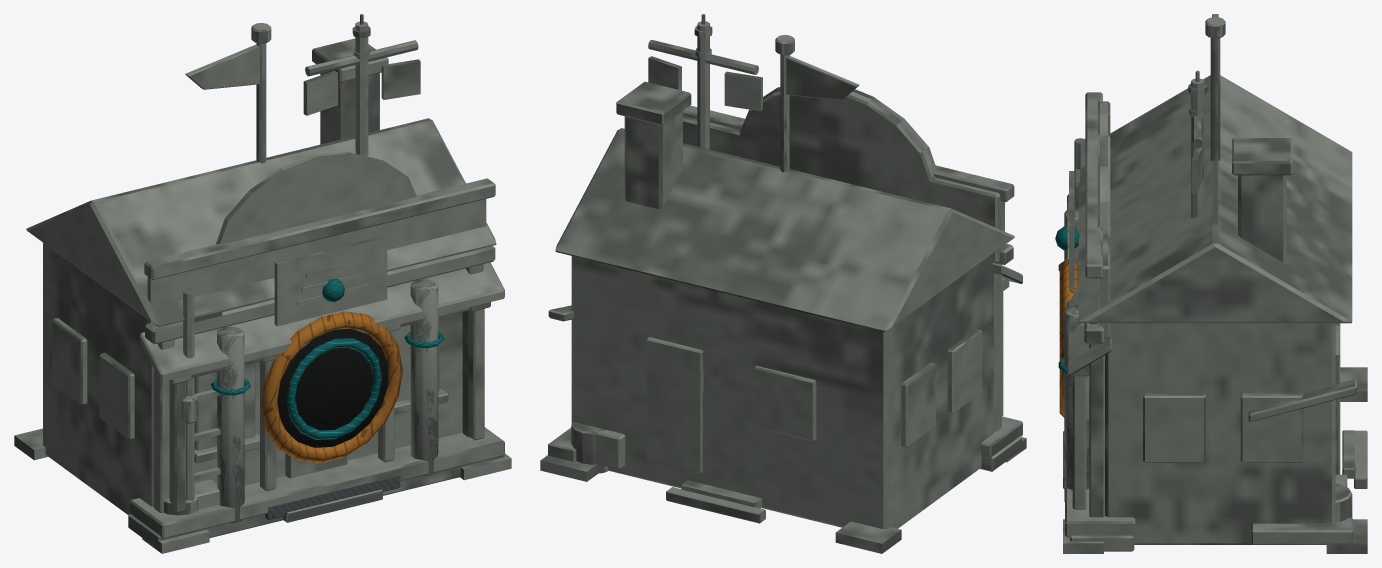
File: claim-office.e8.glb
3 renders of one model, left to right at view 1: azimuth 30°, elevation 25°; view 2: azimuth 150°, elevation 25°; view 3: azimuth 270°, elevation 25°, orthographic. The views are drawn at different scales.
Parts seen in each view (by area): view 1: ClaimOfficeE8AirlockGate; view 2: ClaimOfficeE8AirlockGate; view 3: ClaimOfficeE8AirlockGate.
Boxes of the visible parts, x1,y1,x2,y2 form: ClaimOfficeE8AirlockGate: (14,14,511,553); ClaimOfficeE8AirlockGate: (540,14,1026,553); ClaimOfficeE8AirlockGate: (1055,14,1367,553).
Size of the model in its own units: 4.26 by 5.02 by 3.2.
1 material, 1 textured.
